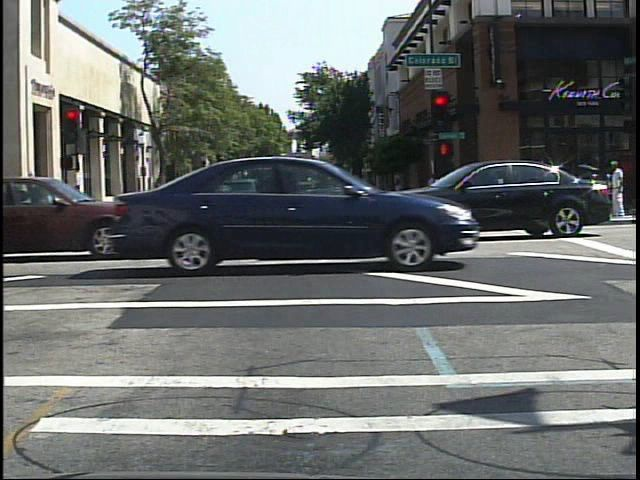person: (605, 156, 632, 221)
